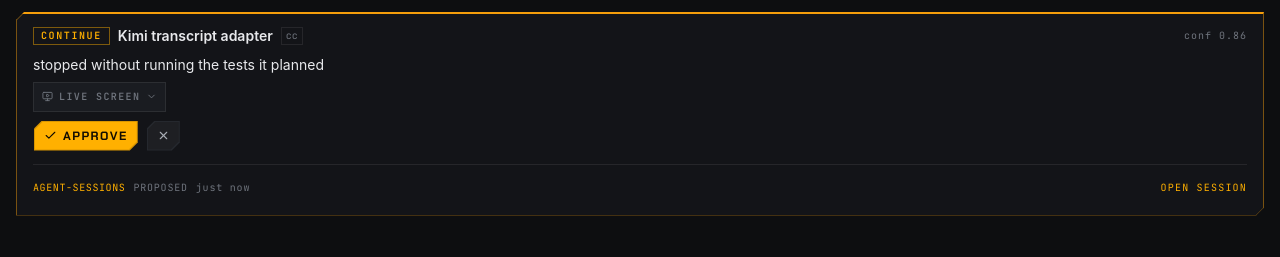
Test case: a 409 from compare-and-execute says nothing was sent, and is not an error
Click the button "Approve": (86, 136) [33, 120, 139, 152]
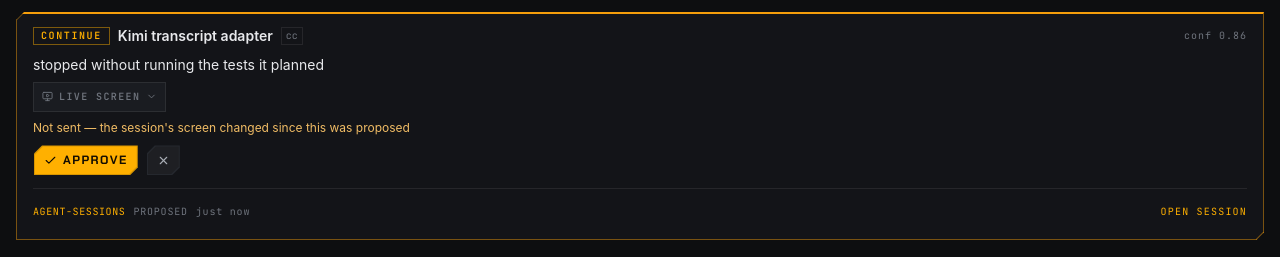
Now the text "Not sent — the session's screen changed" is shown, box [33, 120, 410, 135]
